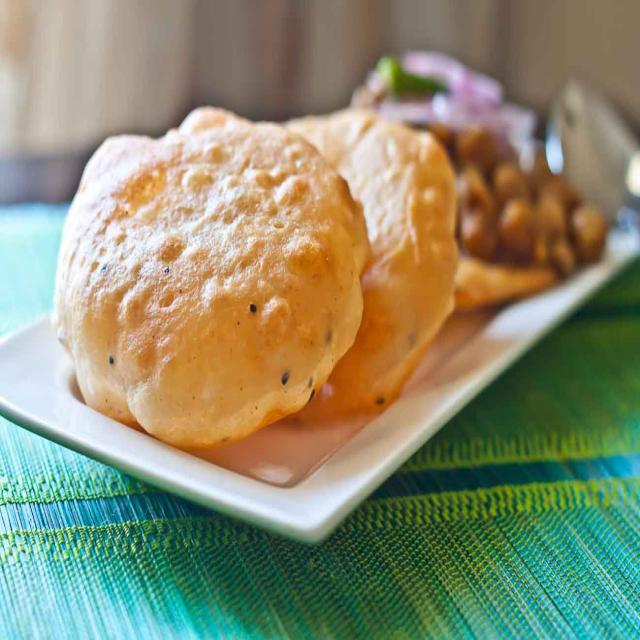puri: (53, 109, 457, 447)
